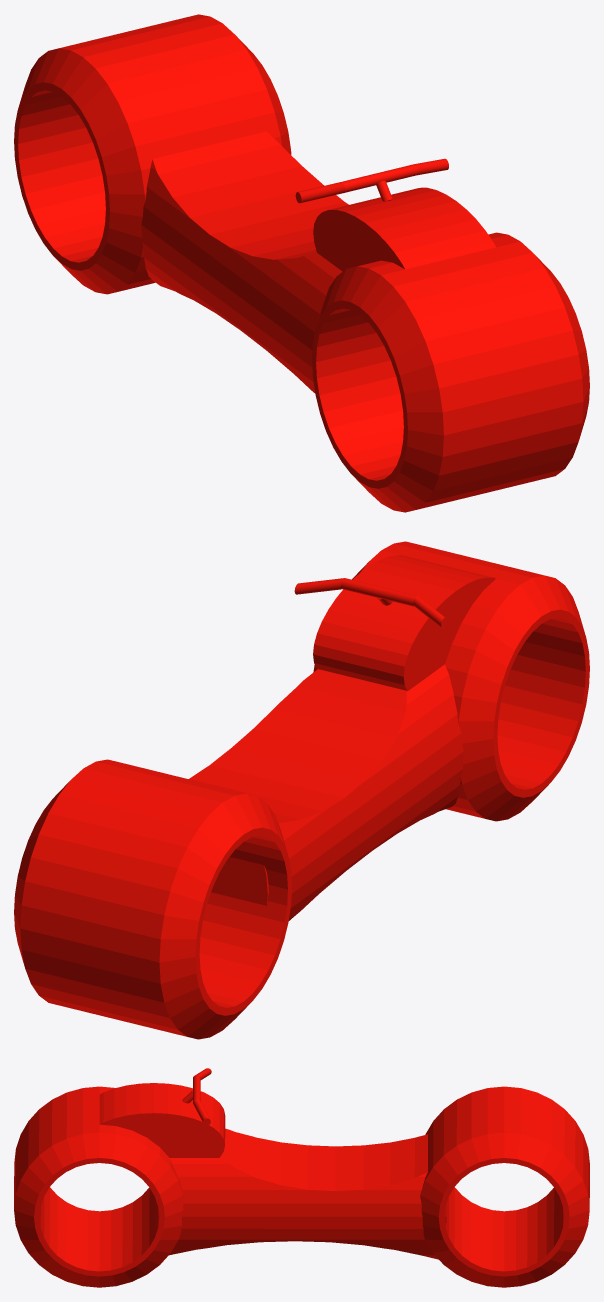
File: enemy.obj
3 renders of one model, top to bottom at view 1: azimuth 30°, elevation 25°; view 2: azimuth 150°, elevation 25°; view 3: azimuth 270°, elevation 25°, orthographic. The views are drawn at different scales.
Visible parts, largest first — view 1: 円柱.001, 円柱, 円柱.002, 円柱.003, 円柱.005; view 2: 円柱, 円柱.002, 円柱.001, 円柱.003, 円柱.005; view 3: 円柱.002, 円柱, 円柱.001, 円柱.003, 円柱.005.
Part boxes in pixels (x1,y1,x2,y2): 円柱.001: (312, 232, 589, 512); 円柱: (14, 14, 291, 294); 円柱.002: (141, 131, 348, 393); 円柱.003: (313, 187, 495, 271); 円柱.005: (295, 158, 448, 203); 円柱: (14, 759, 291, 1039); 円柱.002: (188, 664, 463, 920); 円柱.001: (313, 541, 589, 821); 円柱.003: (313, 555, 495, 691); 円柱.005: (294, 578, 446, 628); 円柱.002: (169, 1128, 446, 1259); 円柱: (420, 1086, 589, 1287); 円柱.001: (14, 1086, 183, 1287); 円柱.003: (99, 1083, 225, 1157); 円柱.005: (193, 1068, 211, 1125).
Bounding box in the file's own units: 2 × 2.74 × 8.08.
Materials: 2 (2 with a texture image).
